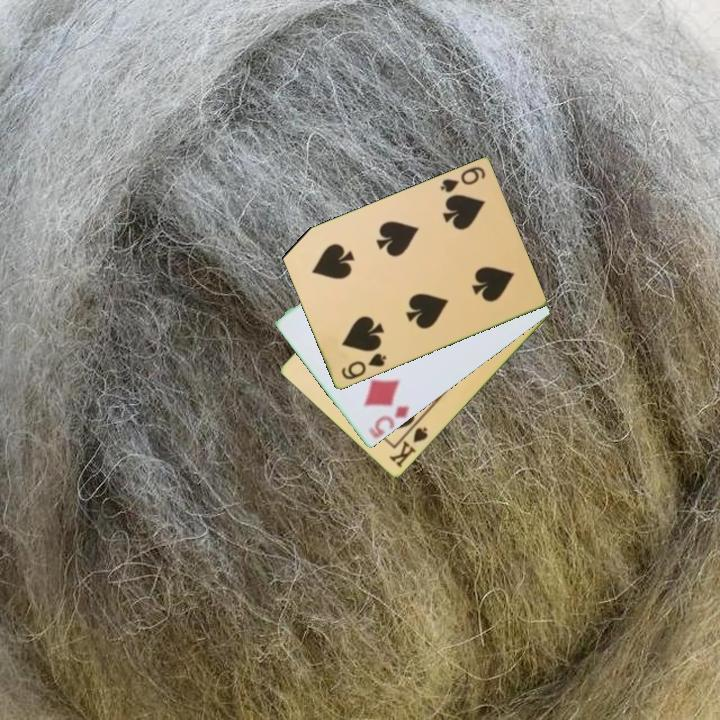5d: (365, 402, 413, 441)
6s: (338, 350, 389, 383), (437, 163, 488, 196)
Ks: (386, 418, 431, 471)
